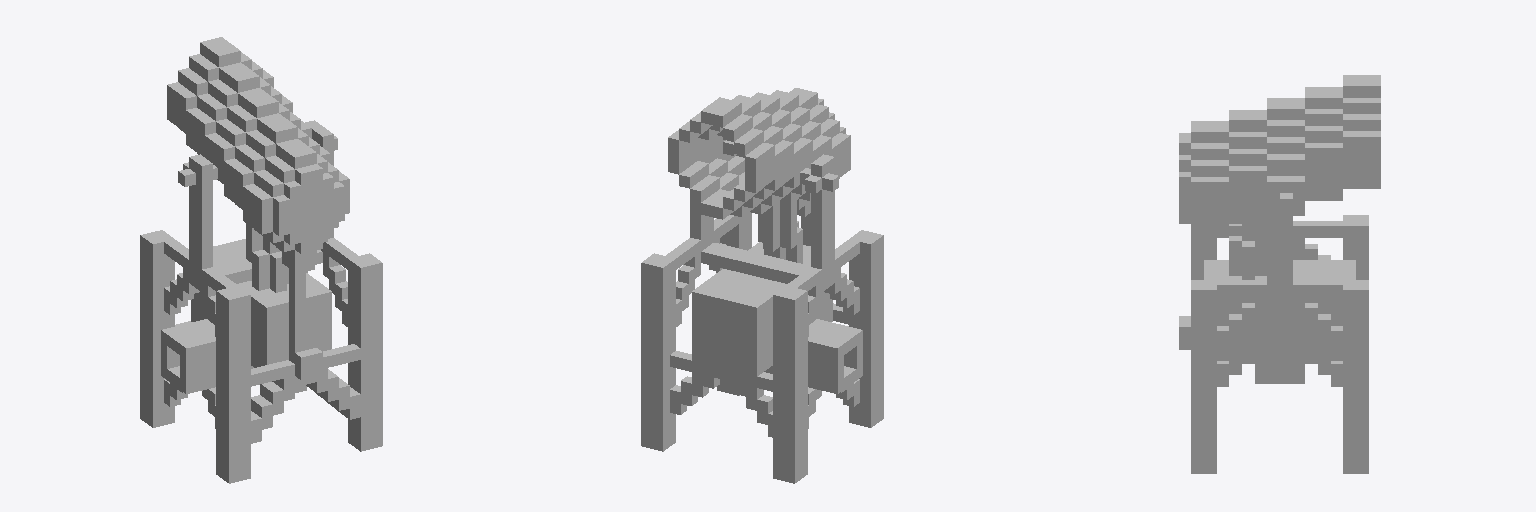
Rendered from hades_snow_cannon.obj.
3 renders of one model, left to right at view 1: azimuth 30°, elevation 25°; view 2: azimuth 150°, elevation 25°; view 3: azimuth 270°, elevation 25°, orthographic.
Parts seen in each view (by area): view 1: node_0_1_0; view 2: node_0_1_0; view 3: node_0_1_0.
Part boxes in pixels (x1,y1,x2,y2): node_0_1_0: (140,37,382,483); node_0_1_0: (641,88,883,483); node_0_1_0: (1179,75,1380,473).
Size of the model in its own units: 0.9375 by 1.94 by 1.